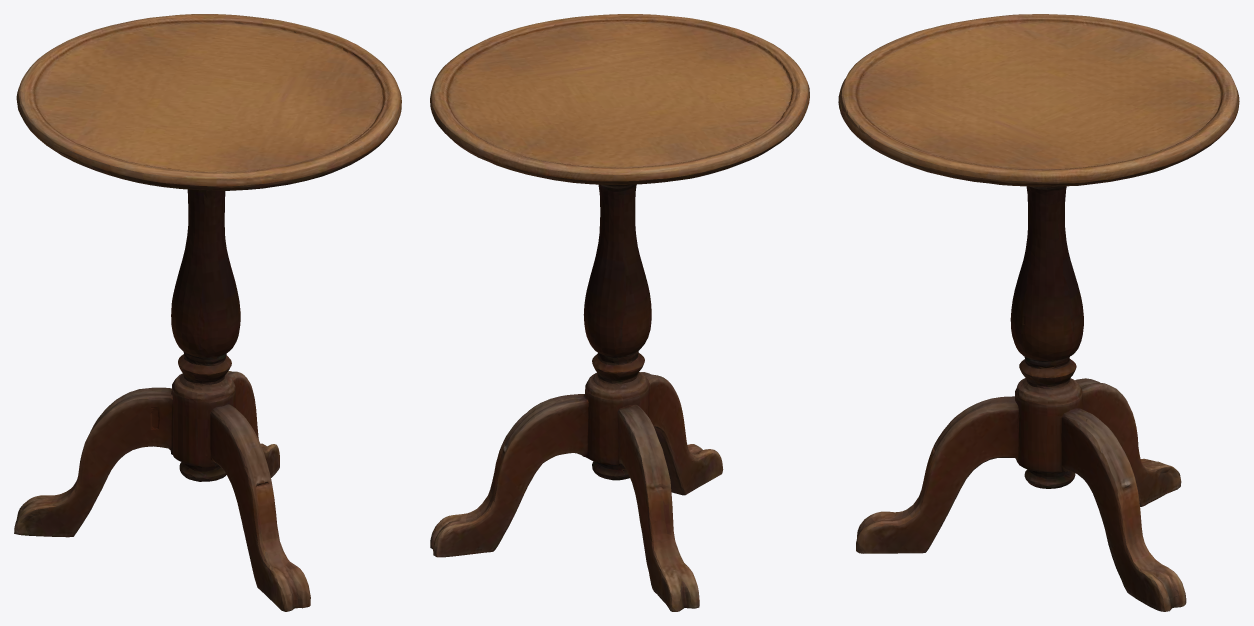
The model's file is sidetable.glb.
3 views of the same model, side by side, from view 1: azimuth 30°, elevation 25°; view 2: azimuth 150°, elevation 25°; view 3: azimuth 270°, elevation 25° (orthographic). The views are drawn at different scales.
Parts seen in each view (by area): view 1: geometry_0; view 2: geometry_0; view 3: geometry_0.
Boxes of the visible parts, x1=… form: geometry_0: x1=14, y1=14, x2=401, y2=611; geometry_0: x1=430, y1=14, x2=809, y2=611; geometry_0: x1=838, y1=14, x2=1239, y2=611.
Bounding box in the file's own units: 0.7716 × 0.9993 × 0.7966.
1 material, 1 textured.
